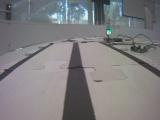tl_green: (106, 16, 112, 36)
